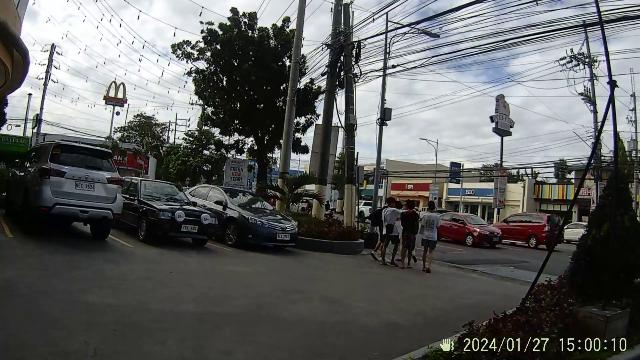car: (122, 182, 298, 252)
lamp_post: (417, 134, 441, 172)
utility_post: (564, 20, 604, 158), (340, 1, 360, 226)
